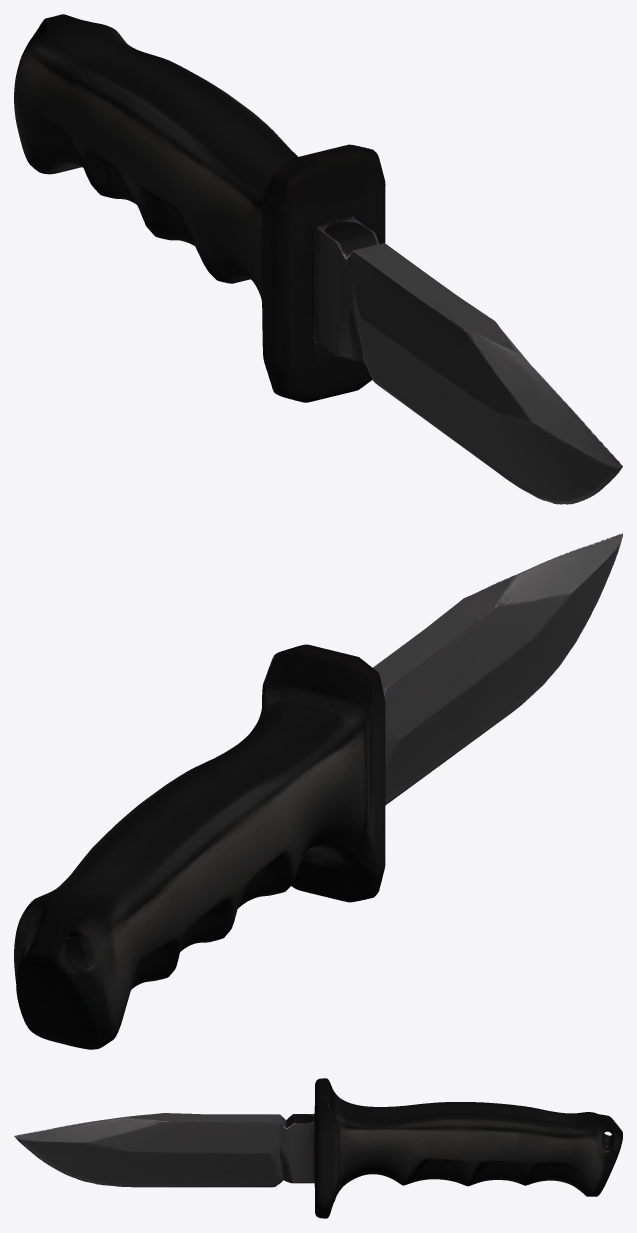
File: Knife.glb
The picture shows the model from 3 angles, top to bottom: view 1: azimuth 30°, elevation 25°; view 2: azimuth 150°, elevation 25°; view 3: azimuth 270°, elevation 25°; orthographic projection. The views are drawn at different scales.
Visible parts, largest first — view 1: model; view 2: model; view 3: model.
Boxes of the visible parts, box(x1,y1,x2,y2) form: model: box(14, 14, 622, 504); model: box(14, 533, 622, 1049); model: box(14, 1078, 622, 1218).
Size of the model in its own units: 0.2106 by 0.4342 by 1.9.
Materials: 1 (1 with a texture image).
